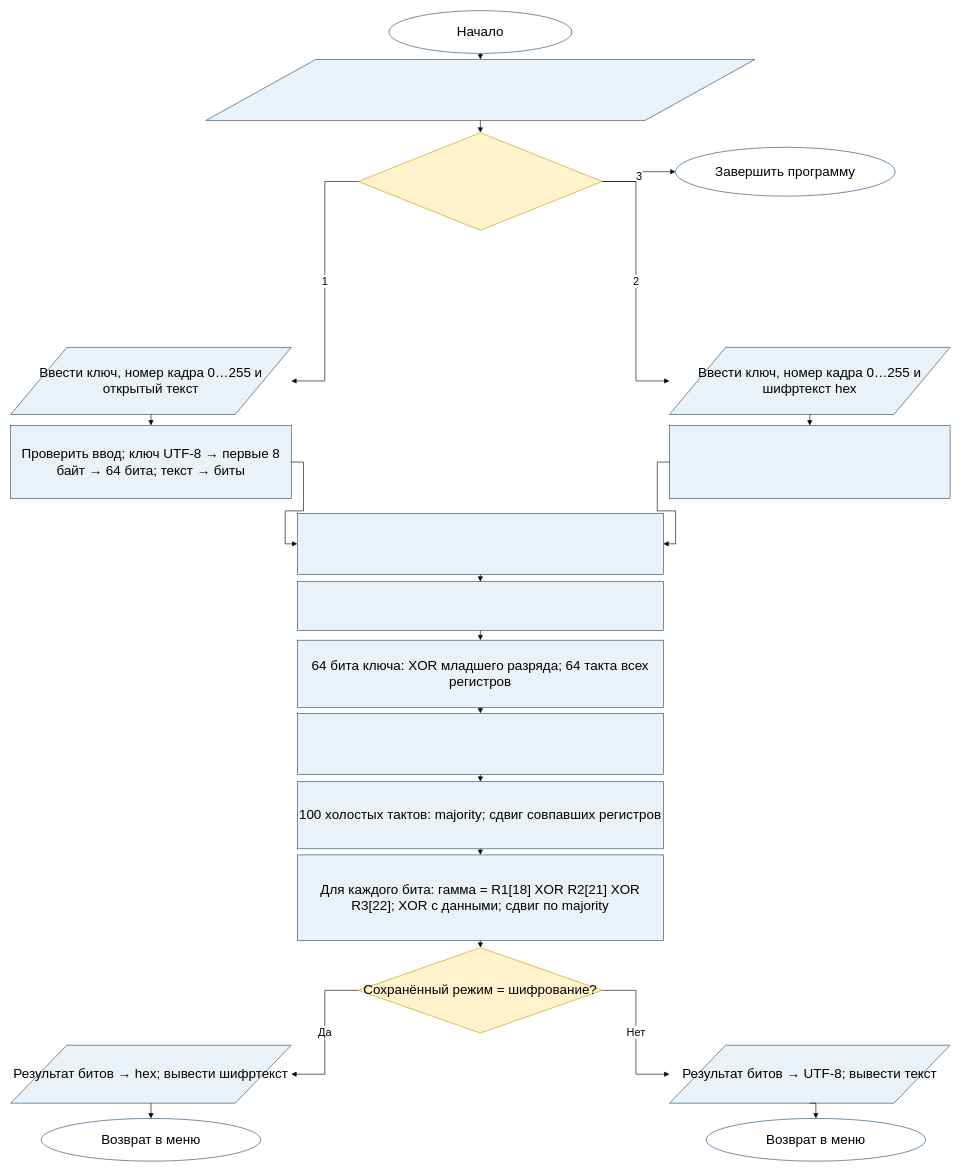
This 961x1172 diagram has some shape labels left out. Each missing label, with the centre of its shape:
22 бита кадра: XOR младшего разряда; 22 такта всех регистров: point (480, 743)
Выбор: 1 — шифрование; 2 — расшифрование; 3 — выход: point (480, 181)
Кадр → 22 бита; длина гаммы = длина данных в битах: point (480, 543)
Меню: 1 — шифрование; 2 — расшифрование; 3 — выход: point (480, 89)
Обнулить R1 (19), R2 (22), R3 (23): point (480, 605)
Проверить ввод; ключ → 64 бита; hex-шифртекст → биты: point (809, 462)
